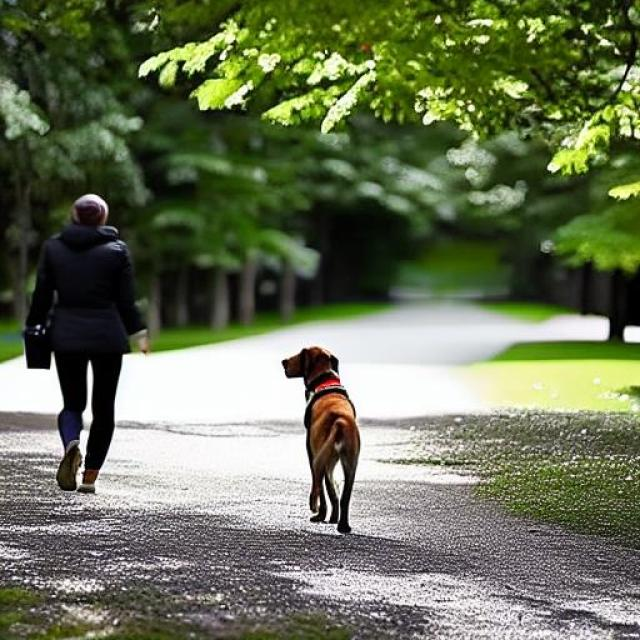Unleashed_Dog: (56, 316, 361, 534)
